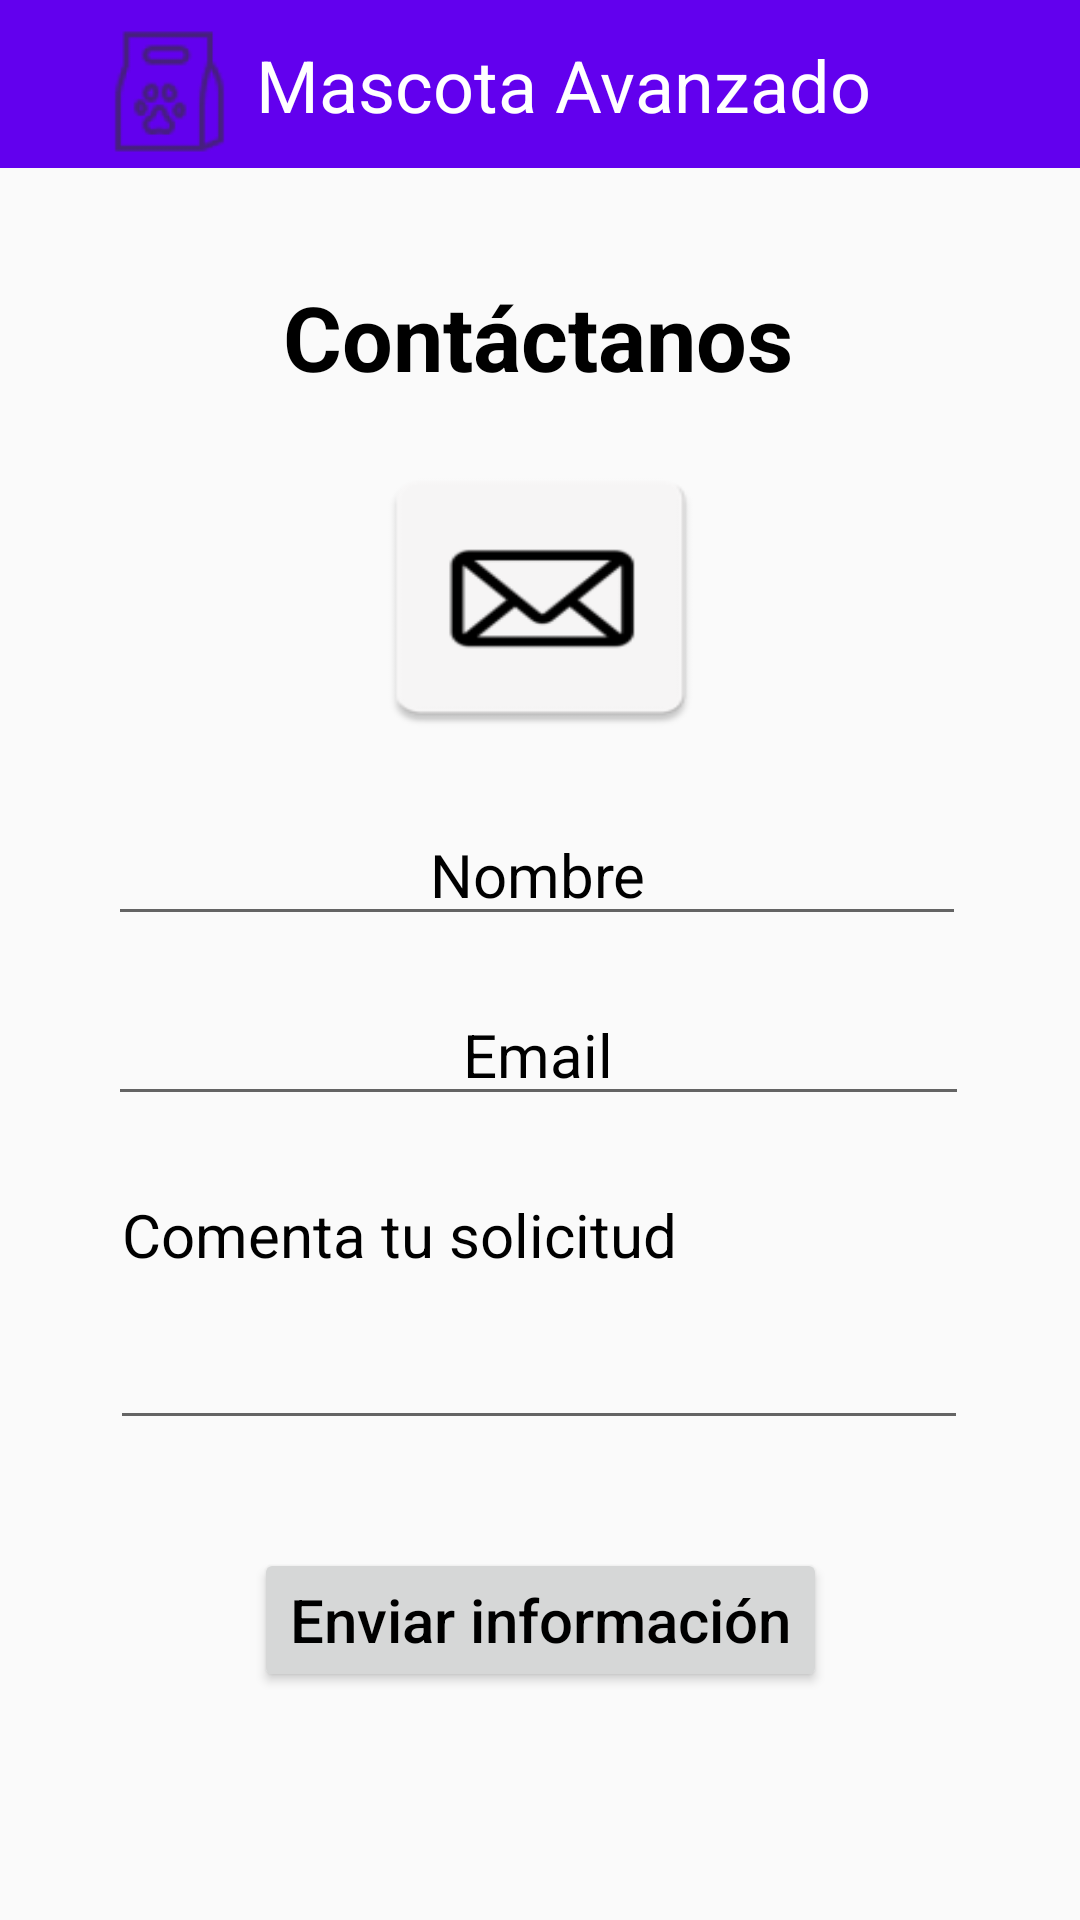

Icons on this 1080*1920 Android screen, each with its box as (x1, y1, x2, y2):
email: (397, 493, 686, 721)
huella name: (115, 31, 224, 152)
